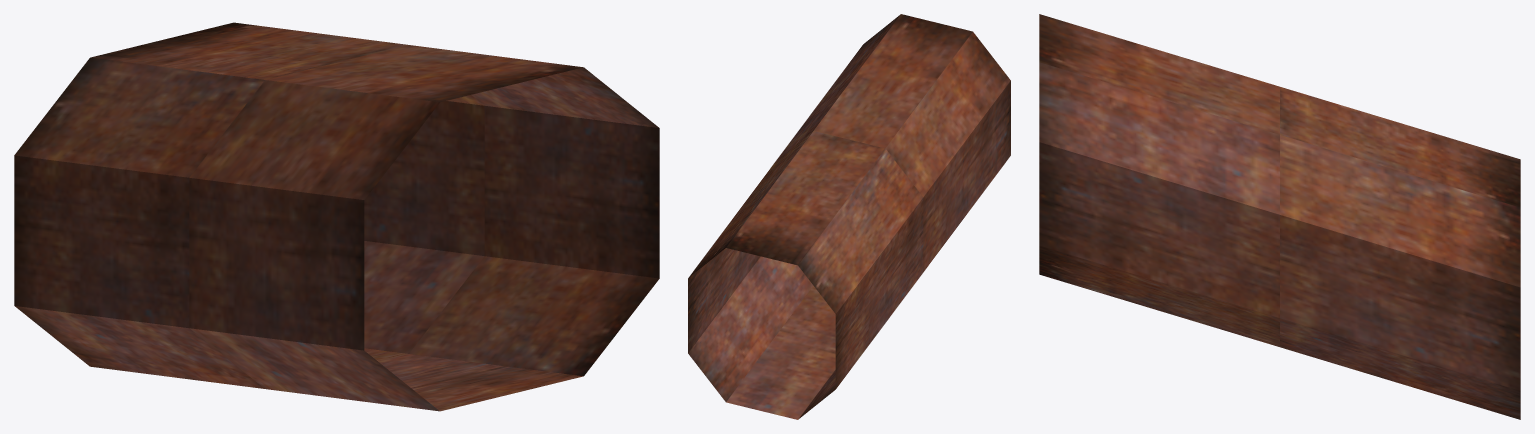
The model's file is MESH_ESGOTO_PIPE_DOWN.fbx.
3 renders of one model, left to right at view 1: azimuth 30°, elevation 25°; view 2: azimuth 150°, elevation 25°; view 3: azimuth 270°, elevation 25°, orthographic. The views are drawn at different scales.
Parts seen in each view (by area): view 1: MESH_ESGOTO_PIPE_DOWN; view 2: MESH_ESGOTO_PIPE_DOWN; view 3: MESH_ESGOTO_PIPE_DOWN.
Part boxes in pixels (x1,y1,x2,y2): MESH_ESGOTO_PIPE_DOWN: (14,22,659,411); MESH_ESGOTO_PIPE_DOWN: (688,14,1010,419); MESH_ESGOTO_PIPE_DOWN: (1039,14,1520,419).
Bounding box in the file's own units: 2.92 × 4.92 × 6.
